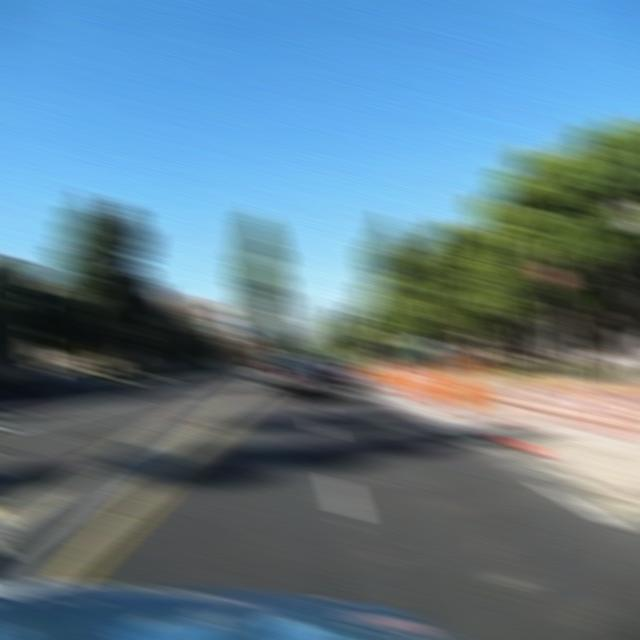speedLimit35: (218, 301, 246, 324)
